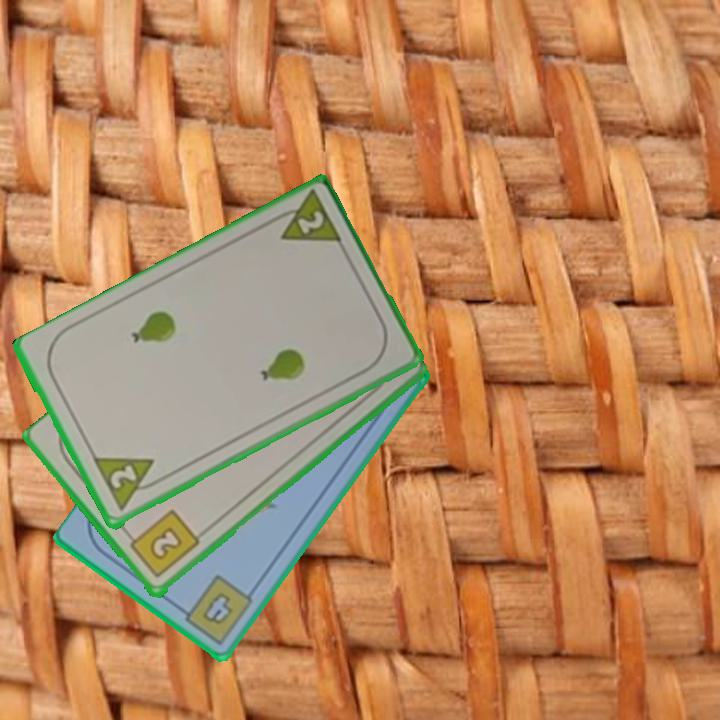2b: (122, 507, 203, 582)
2p: (266, 188, 346, 249), (90, 453, 166, 515)
4b: (174, 571, 256, 648)
